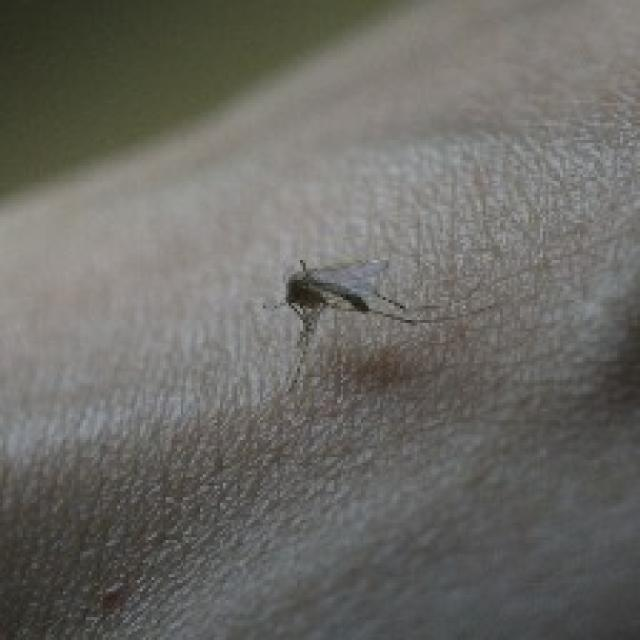culex: (254, 241, 468, 373)
